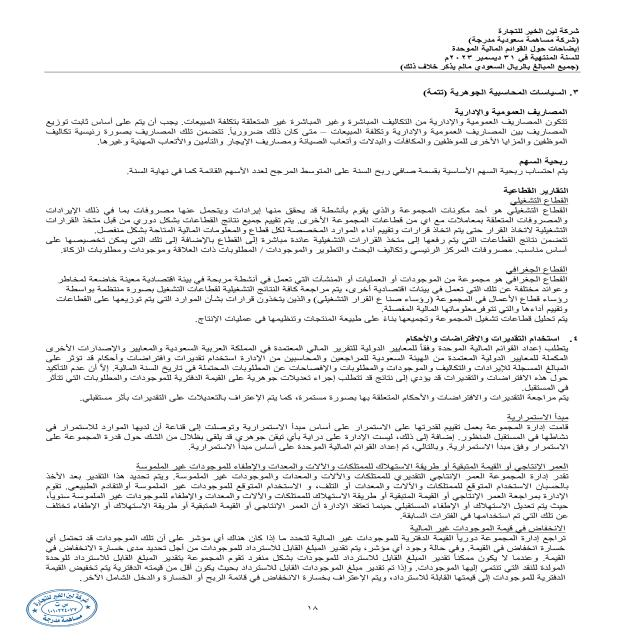notes: (448, 43, 586, 53)
text: (22, 80, 586, 584)
